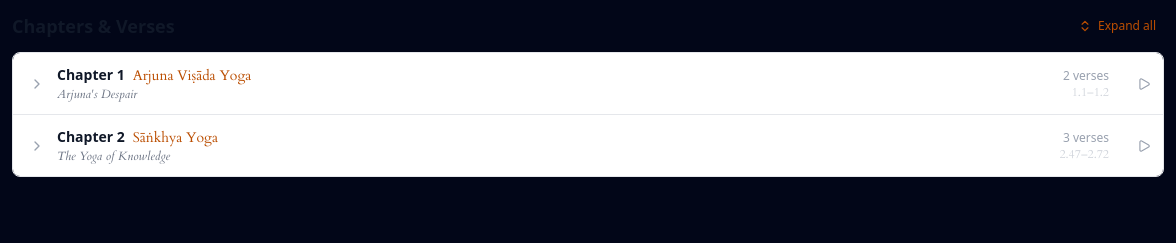
Test: SectionTreePicker › expands a group to reveal its verses and updates aria-expanded
Click the button "Chapter 2": (91, 136) x1=13 y1=115 x2=1125 y2=176
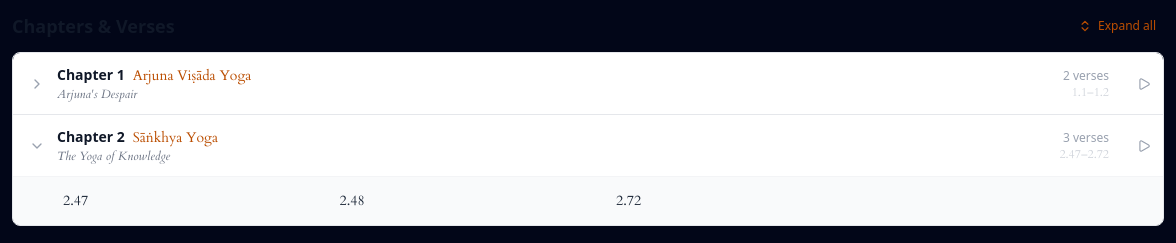
Check: the button "Chapter 2" is expanded, box x1=13 y1=115 x2=1125 y2=176
Check: the text "2.47" is shown, box x1=63 y1=191 x2=88 y2=211
Check: the text "2.48" is shown, box x1=340 y1=191 x2=365 y2=211
